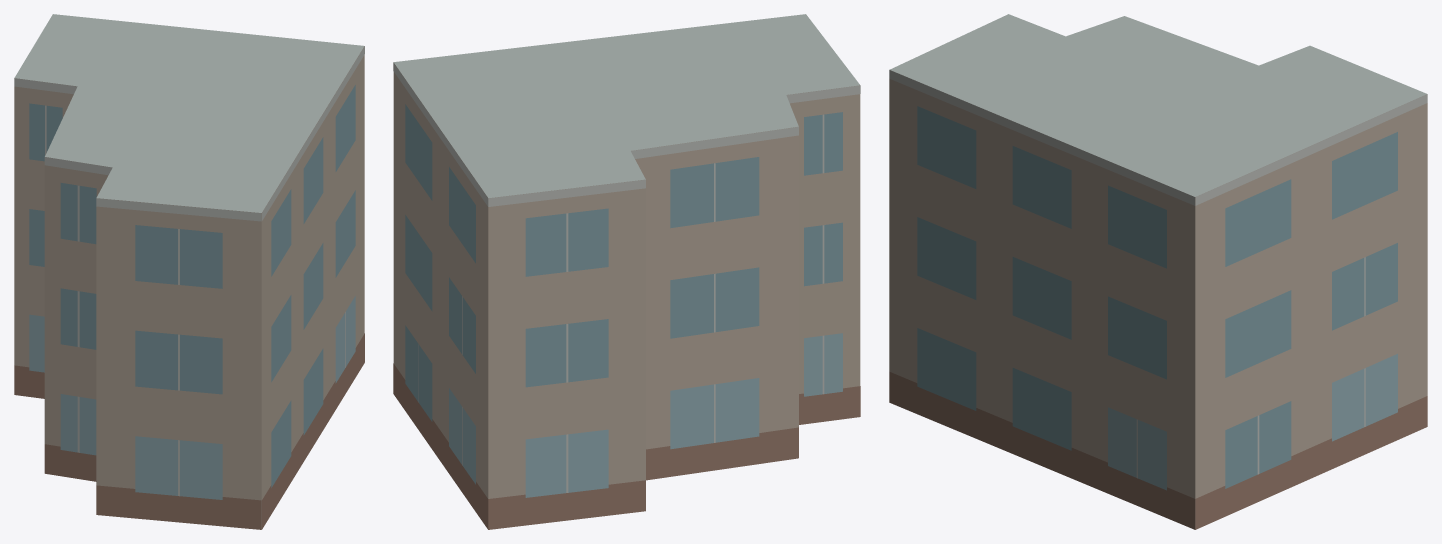
Rendered from survey-upis-32604347.glb.
3 views of the same model, side by side, from view 1: azimuth 30°, elevation 25°; view 2: azimuth 150°, elevation 25°; view 3: azimuth 270°, elevation 25° (orthographic). The views are drawn at different scales.
Parts seen in each view (by area): view 1: survey-upis-32604347.tmp; view 2: survey-upis-32604347.tmp; view 3: survey-upis-32604347.tmp.
Part boxes in pixels (<box>): survey-upis-32604347.tmp: <box>14,14,364,529</box>; survey-upis-32604347.tmp: <box>393,14,860,529</box>; survey-upis-32604347.tmp: <box>889,14,1427,529</box>.
Bounding box in the file's own units: 10.81 × 9.15 × 13.42.
